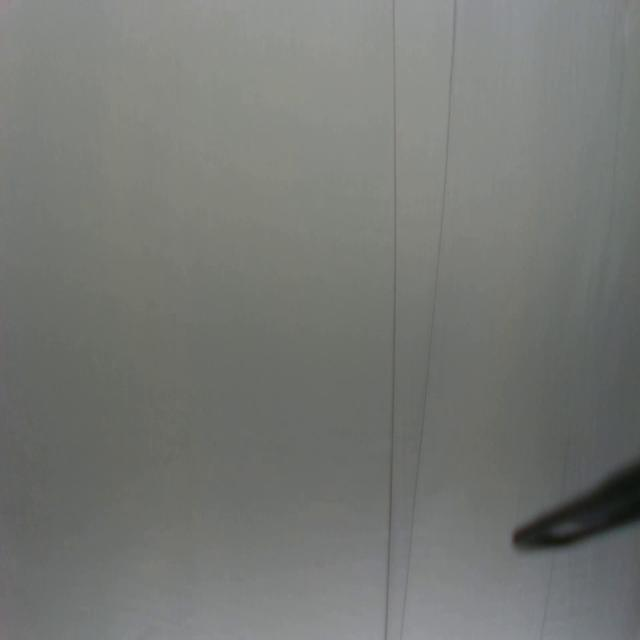crease: (400, 0, 459, 636), (383, 0, 399, 636)
